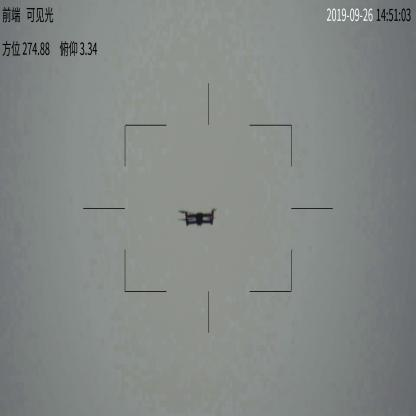uav: (176, 206, 223, 227)
